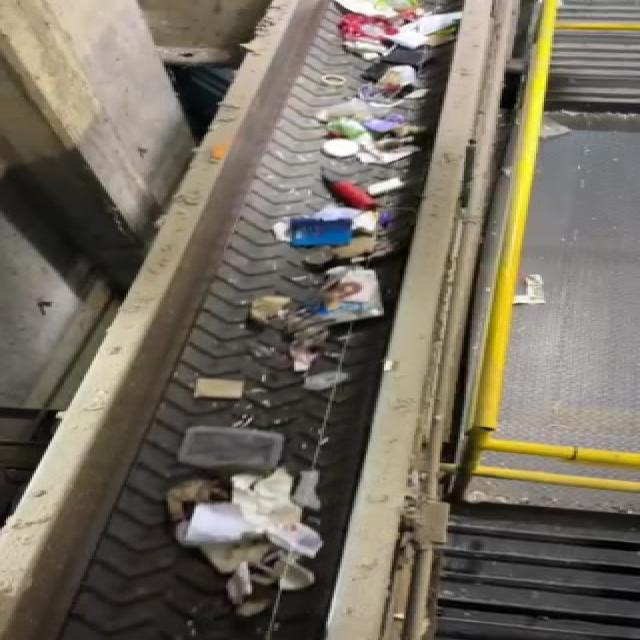paper: (193, 486, 340, 614)
pp: (176, 420, 299, 480)
